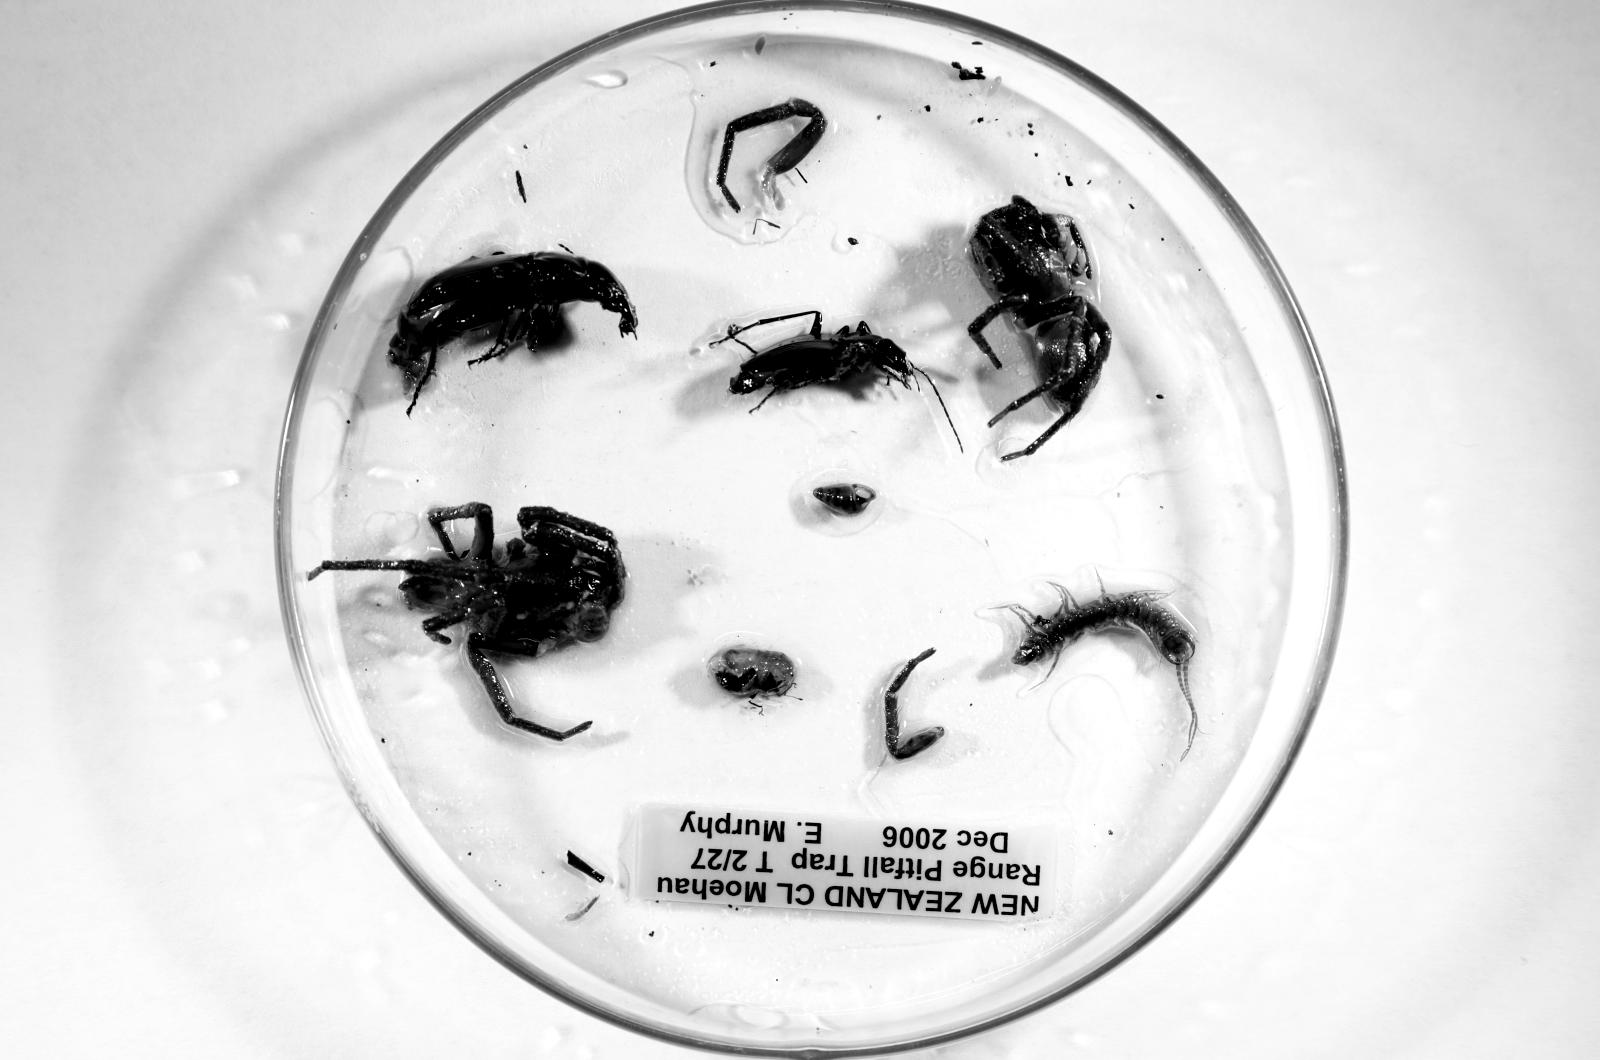araneae: (307, 503, 626, 741), (969, 195, 1110, 460)
carabidae: (388, 252, 637, 403), (730, 312, 918, 397)
chilopoda: (996, 582, 1198, 761)
gastropoda: (812, 484, 876, 516)
